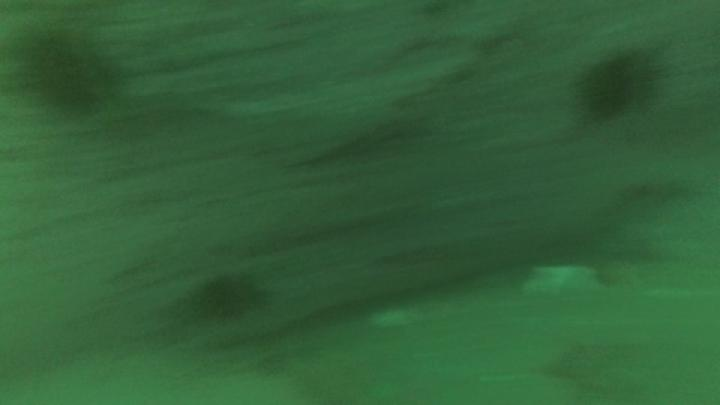echinus: (17, 28, 122, 126), (569, 42, 668, 132), (192, 271, 269, 326)
